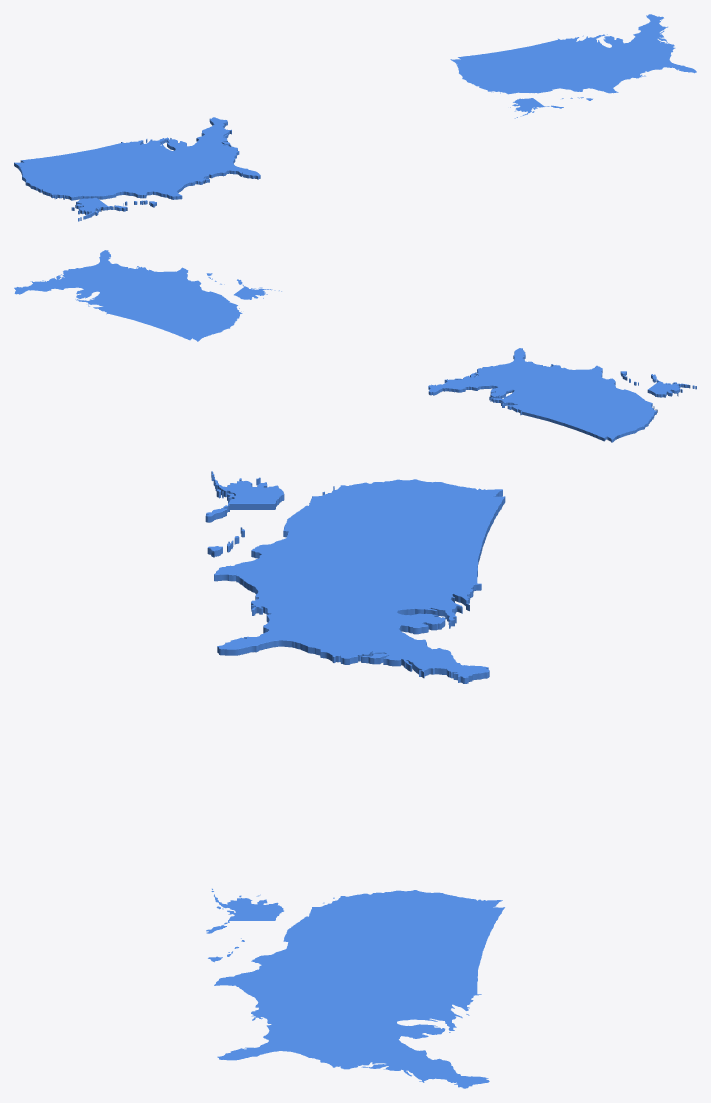
The model's file is Usa map.FBX.
3 renders of one model, top to bottom at view 1: azimuth 30°, elevation 25°; view 2: azimuth 150°, elevation 25°; view 3: azimuth 270°, elevation 25°, orthographic. The views are drawn at different scales.
Parts seen in each view (by area): view 1: Usa mainland, Usa mainland 2d, Alaska, Alaska 2d; view 2: Usa mainland, Usa mainland 2d, Alaska, Alaska 2d; view 3: Usa mainland, Usa mainland 2d, Alaska, Alaska 2d.
Part boxes in pixels (x1,y1,x2,y2): Usa mainland: (14,117,260,200); Usa mainland 2d: (450,14,696,94); Alaska: (71,197,127,221); Alaska 2d: (510,98,563,118); Usa mainland: (428,348,657,442); Usa mainland 2d: (14,250,242,341); Alaska: (647,374,696,397); Alaska 2d: (234,279,281,299); Usa mainland: (214,479,505,683); Usa mainland 2d: (214,890,504,1088); Alaska: (205,471,284,522); Alaska 2d: (206,888,283,933).
Bounding box in the file's own units: 277 × 2.76 × 57.94.
